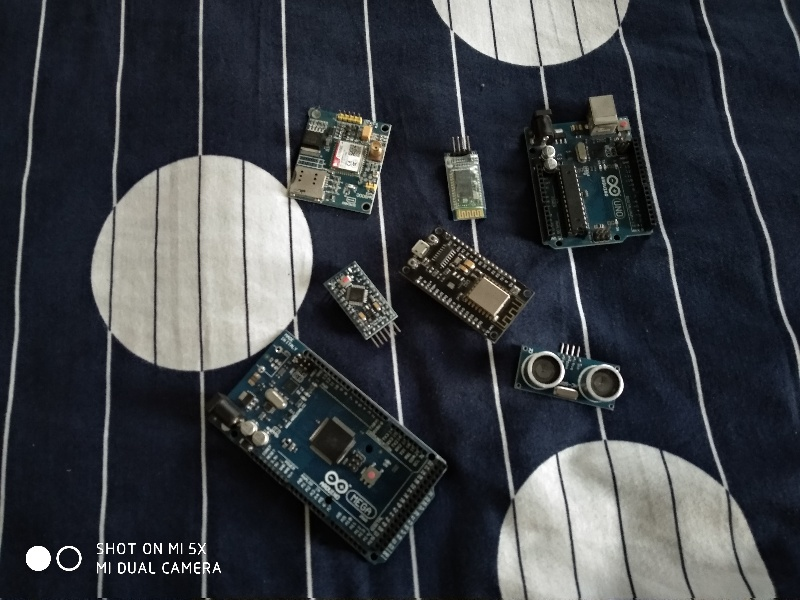Arduino Mega 2560: (204, 325, 453, 570)
Arduino Pro Mini: (322, 256, 403, 344)
Arduino UNO: (520, 88, 670, 257)
HC-05: (438, 142, 497, 222)
NodeMCU: (403, 226, 538, 345)
SIM800: (280, 97, 395, 221)
Sonar Sensor: (511, 337, 628, 416)
